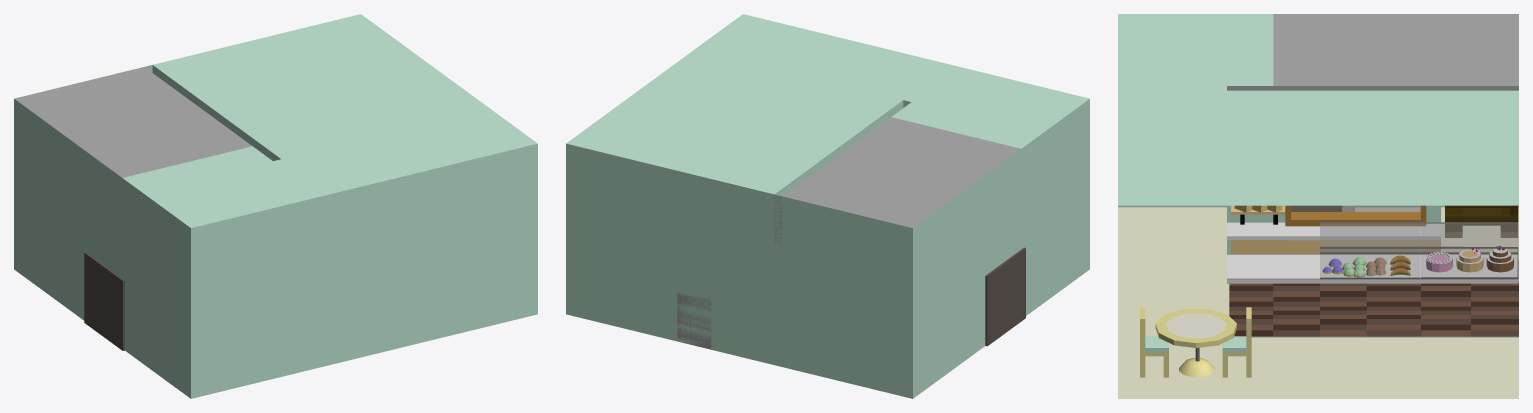
Rendered from bakery inside.fbx.
The picture shows the model from 3 angles, left to right: view 1: azimuth 30°, elevation 25°; view 2: azimuth 150°, elevation 25°; view 3: azimuth 270°, elevation 25°; orthographic projection. The views are drawn at different scales.
Visible parts, largest first — view 1: pCube1, pCube9; view 2: pCube1, pCube9; view 3: pCube1, pCylinder1, pPlane1, polySurface1, pCube4, pCube2, pCylinder11, pCylinder10, pSphere1, pCube9, pCylinder9.
Part boxes in pixels (x1,y1,x2,y2): pCube1: (14,14,537,398); pCube9: (84,252,124,350); pCube1: (566,14,1089,398); pCube9: (985,247,1025,346); pCube1: (1118,14,1518,398); pCylinder1: (1155,309,1236,347); pPlane1: (1320,254,1517,277); polySurface1: (1445,205,1518,237); pCube4: (1222,307,1251,377); pCube2: (1140,307,1168,377); pCylinder11: (1486,248,1513,272); pCylinder10: (1456,249,1483,272); pSphere1: (1179,358,1214,377); pCube9: (1291,205,1354,211); pCylinder9: (1426,252,1452,272).
Size of the model in its own units: 3329 by 1559 by 2925.
